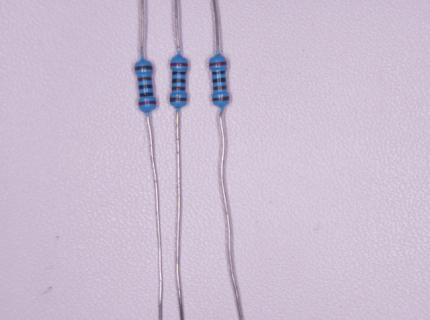Black band: (139, 92, 153, 97), (139, 84, 152, 89), (213, 78, 226, 83), (172, 79, 186, 83), (212, 71, 225, 75), (173, 72, 186, 75)
Brown band: (134, 66, 152, 71), (213, 96, 230, 101), (137, 77, 152, 82), (170, 98, 186, 102), (172, 87, 186, 91), (213, 86, 226, 90)
Red band: (139, 101, 156, 105), (209, 62, 226, 66), (171, 63, 188, 66)
